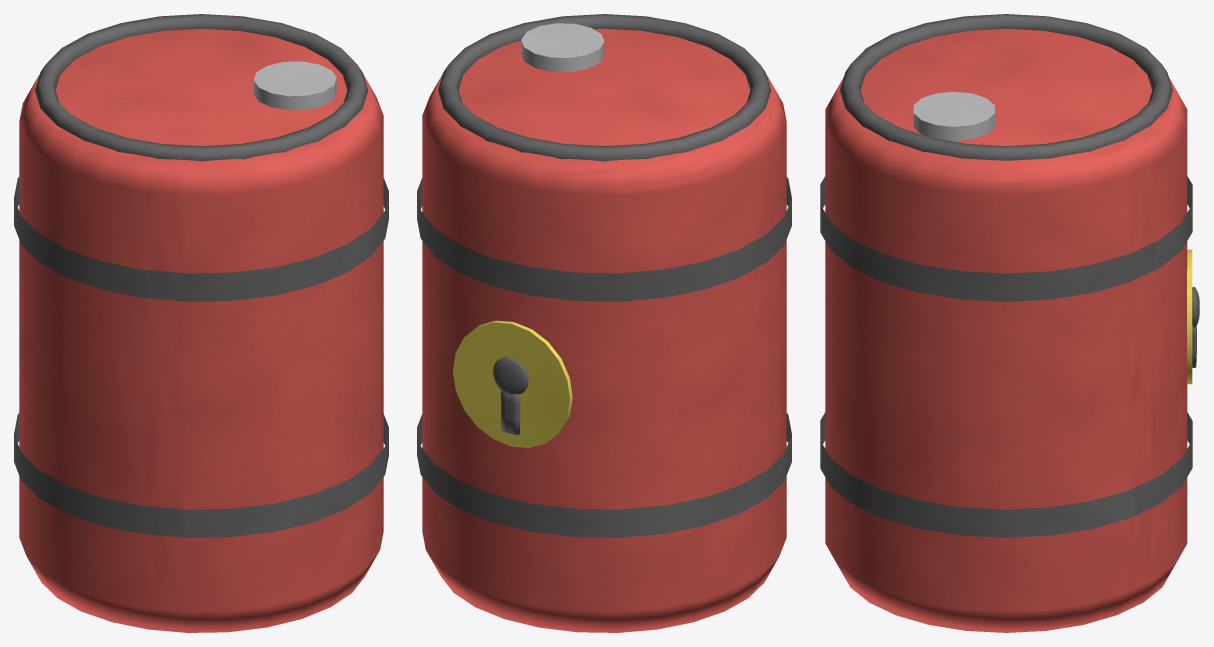
Rendered from barrel.glb.
3 renders of one model, left to right at view 1: azimuth 30°, elevation 25°; view 2: azimuth 150°, elevation 25°; view 3: azimuth 270°, elevation 25°, orthographic.
Parts seen in each view (by area): view 1: barrel_body; view 2: barrel_body; view 3: barrel_body.
Boxes of the visible parts, box(x1,y1,x2,y2) form: barrel_body: box(14, 14, 388, 632); barrel_body: box(417, 14, 791, 632); barrel_body: box(820, 14, 1199, 632).
Bounding box in the file's own units: 0.72 × 1.03 × 0.7288.
Materials: 4 (4 with a texture image).
